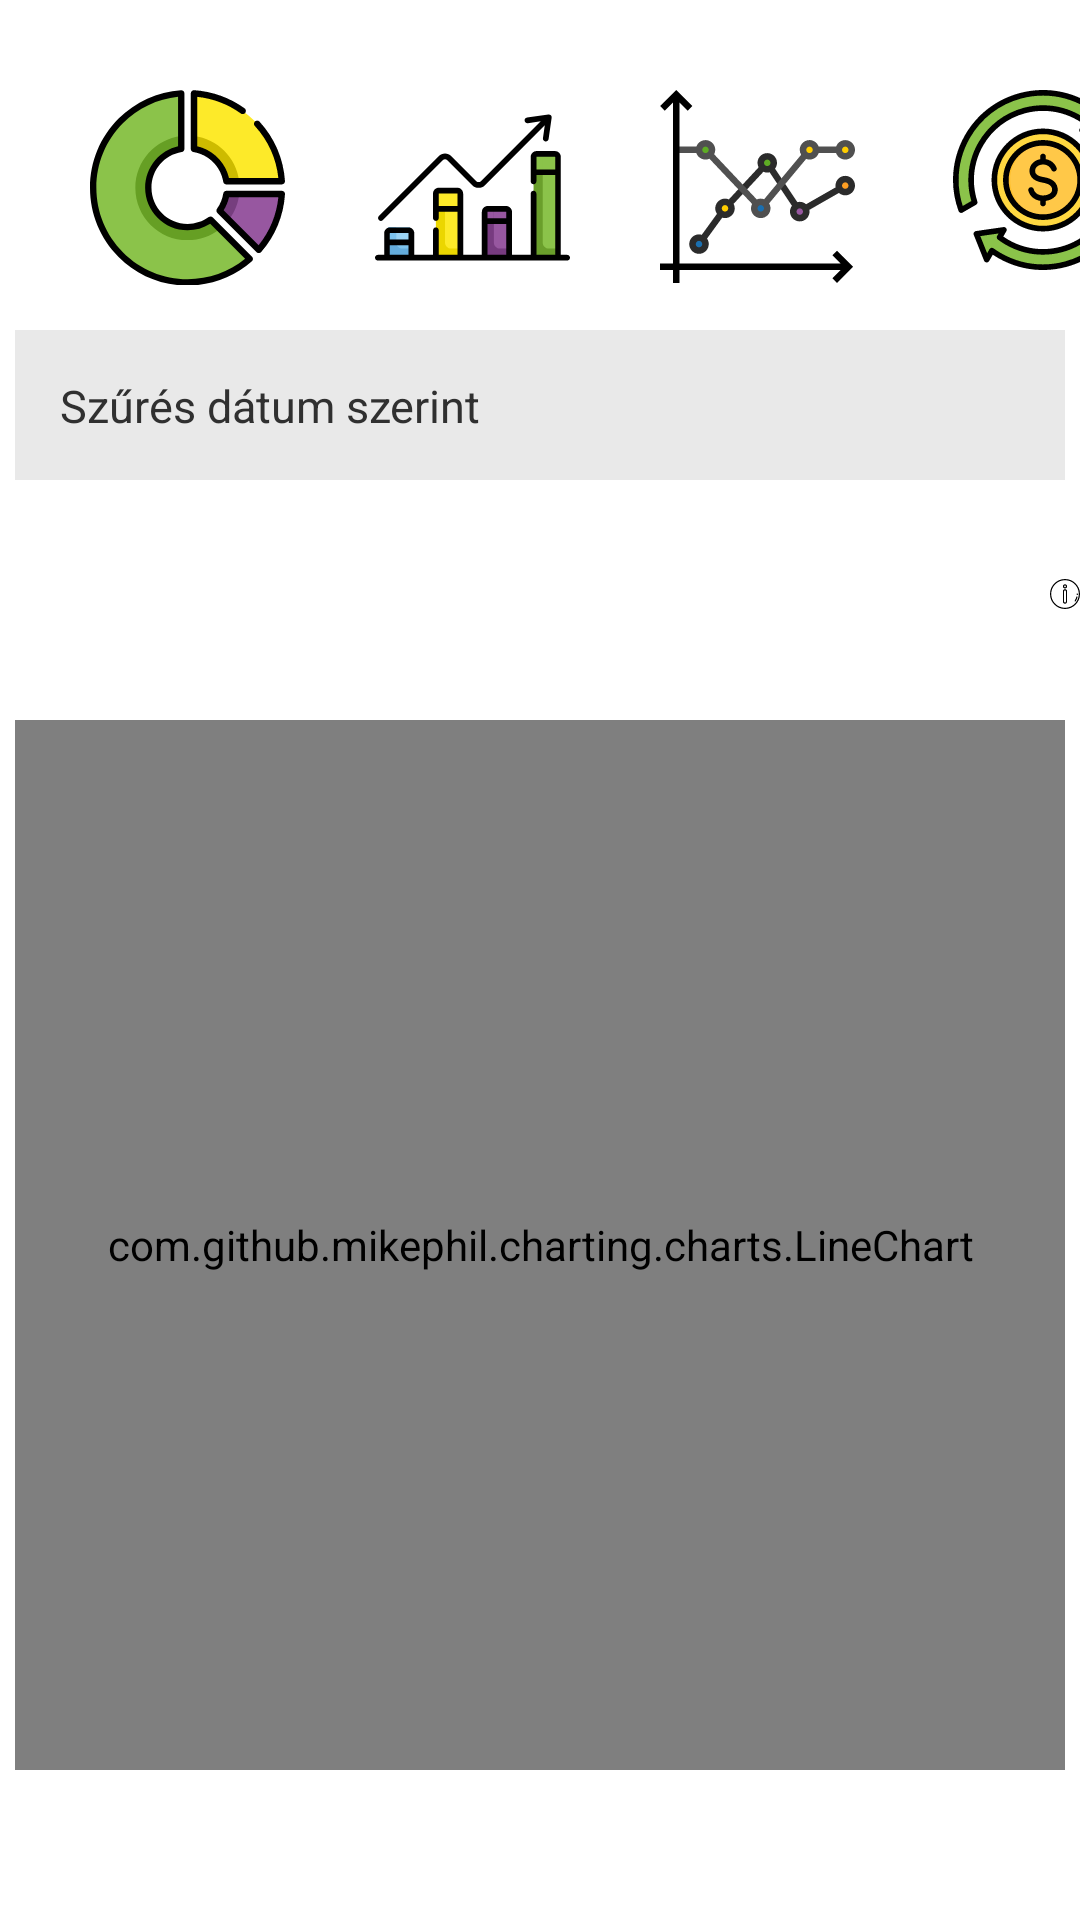

Icons on this 1080 × 1920 Android screen, each with the point to tap as [x,y]:
barchart: [472,187]
info: [1065,594]
linegraph: [757,186]
piechart: [187,187]
